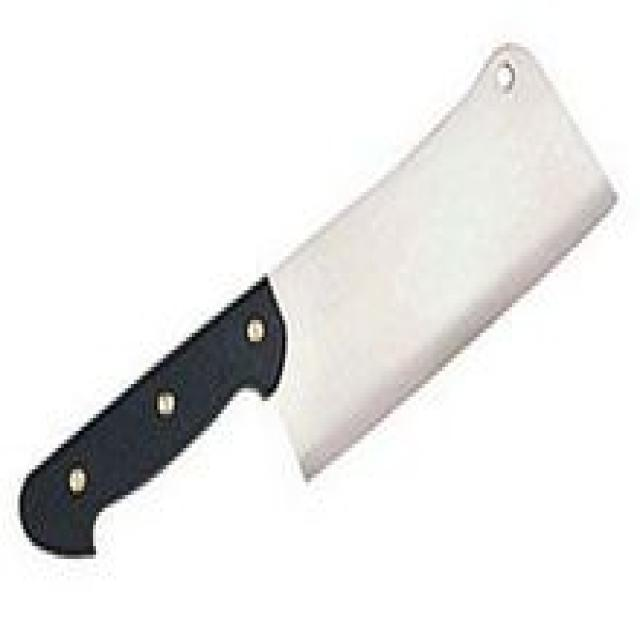Pisau: (11, 26, 625, 572)
